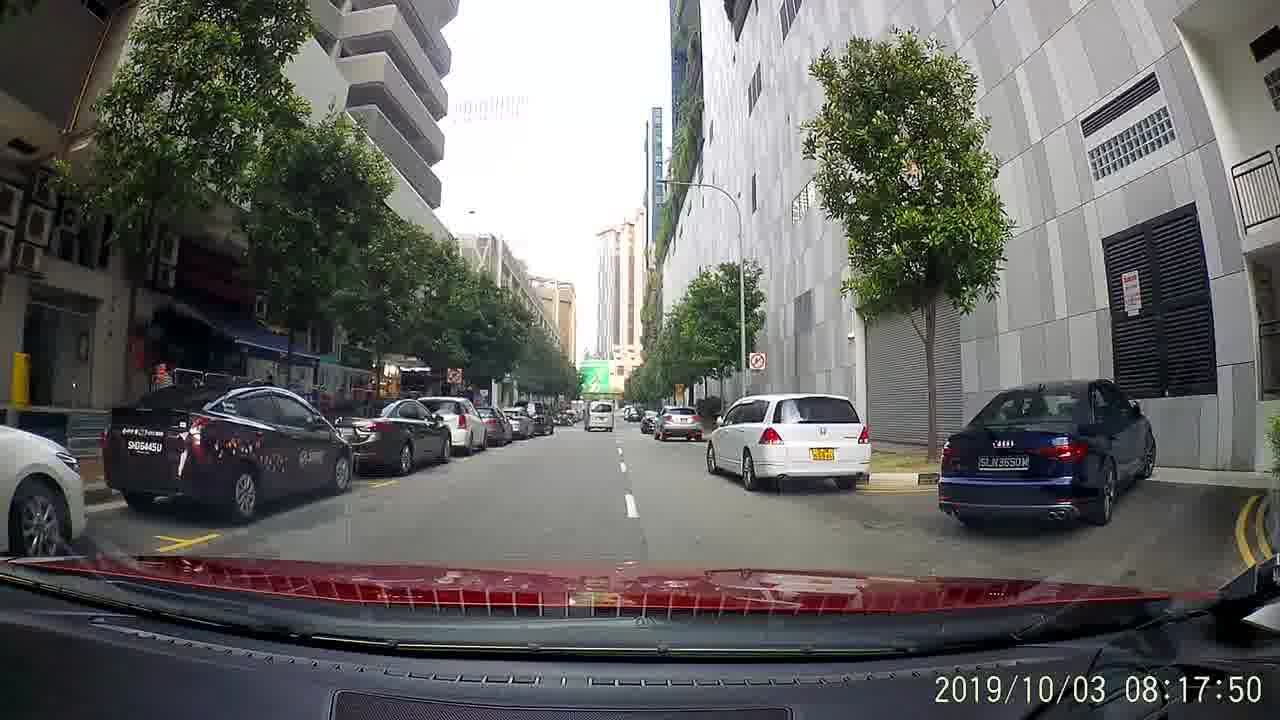car: (106, 382, 354, 522), (940, 377, 1158, 527), (706, 398, 868, 489), (320, 397, 450, 476), (422, 398, 489, 455), (653, 406, 703, 439), (475, 407, 516, 443), (499, 408, 537, 440), (640, 410, 665, 435), (625, 406, 646, 427)
